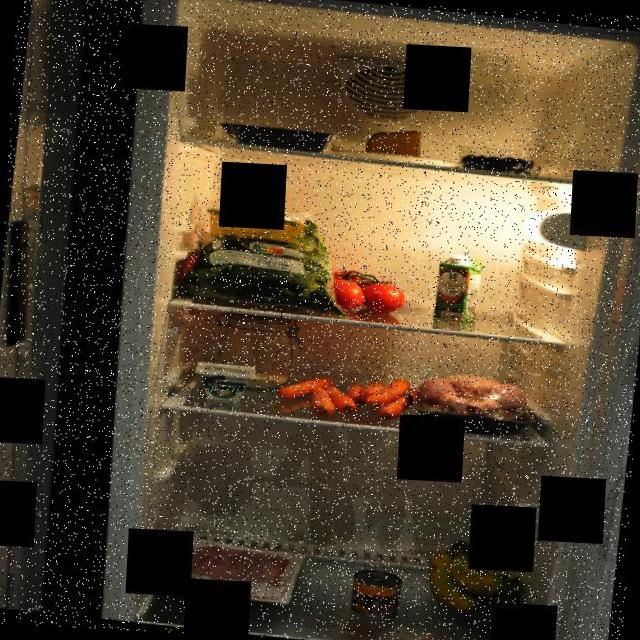Carne cerdo: (167, 540, 298, 604)
Carne pollo: (412, 365, 540, 441)
Plátano: (414, 533, 534, 624)
Queso: (364, 121, 426, 162)
Tomate: (319, 260, 411, 319)
Zanahoria: (272, 364, 419, 426)
